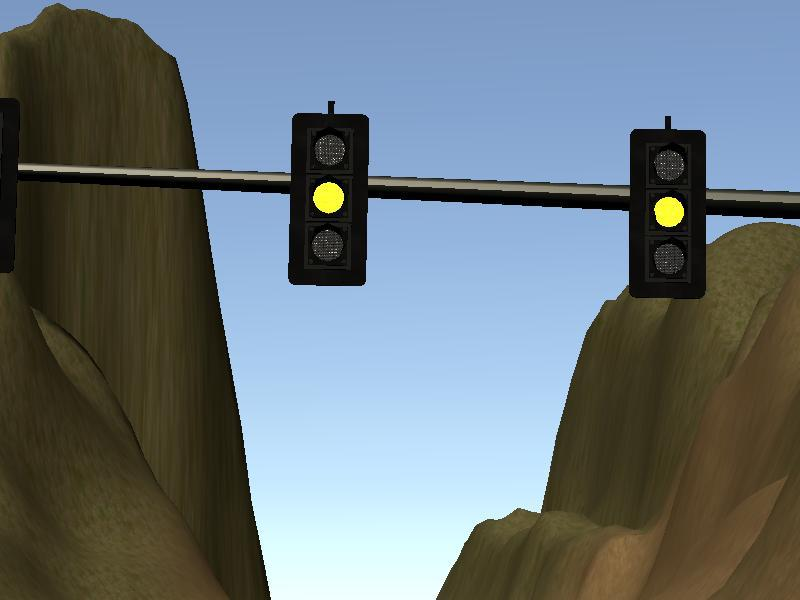Yellow: (292, 114, 364, 283), (631, 130, 705, 294)
